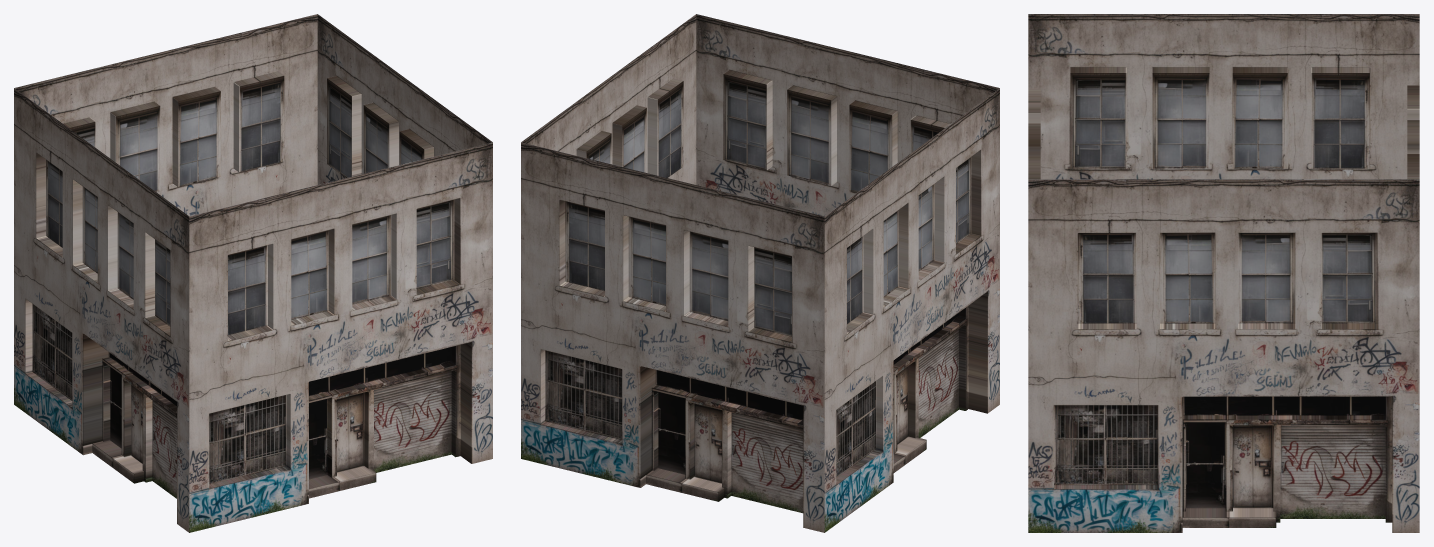
File: edificio2.glb
3 views of the same model, side by side, from view 1: azimuth 30°, elevation 25°; view 2: azimuth 150°, elevation 25°; view 3: azimuth 270°, elevation 25° (orthographic). The views are drawn at different scales.
Parts seen in each view (by area): view 1: building.001, building.002, building.003, building; view 2: building.003, building.002, building.001, building; view 3: building, building.002, building.003, building.001.
Part boxes in pixels (<box>): building.001: <box>189,142,492,532</box>; building.002: <box>14,88,189,532</box>; building.003: <box>14,14,317,216</box>; building: <box>317,14,492,184</box>; building.003: <box>521,142,824,532</box>; building.002: <box>824,88,999,532</box>; building.001: <box>696,14,999,216</box>; building: <box>521,14,696,184</box>; building: <box>1028,179,1419,532</box>; building.002: <box>1028,14,1419,179</box>; building.003: <box>1407,85,1419,179</box>; building.001: <box>1028,88,1040,179</box>.
Size of the model in its own units: 40.52 by 40.36 by 40.52.
2 materials, 2 textured.
